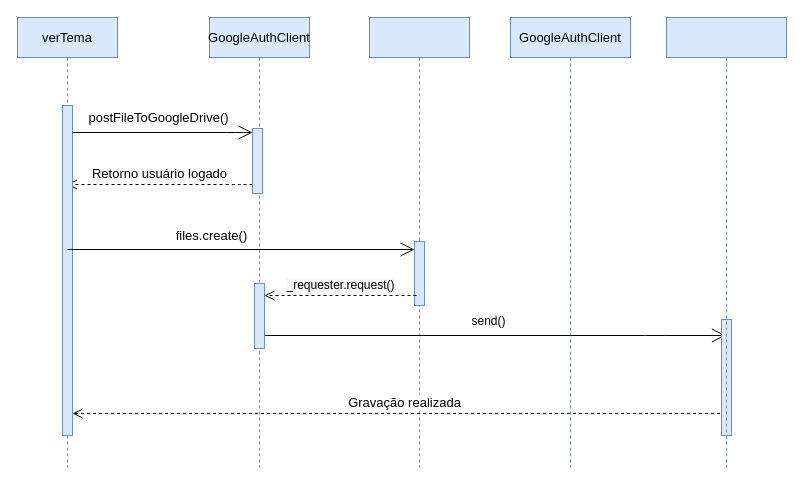
This 804x485 diagram has some shape labels left out. Each missing label, with the box of its shape:
client.dart: (666, 16, 786, 468)
v3.dart: (368, 16, 470, 468)
